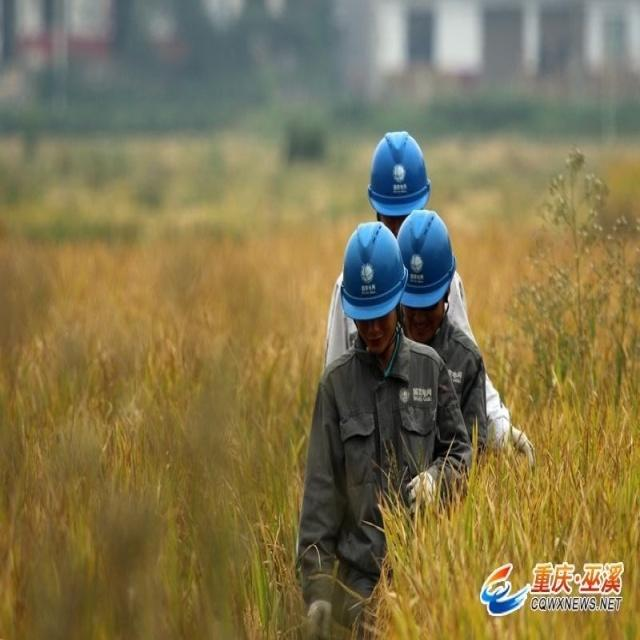helmet: (341, 293, 400, 472), (397, 281, 453, 456), (367, 171, 429, 308)
